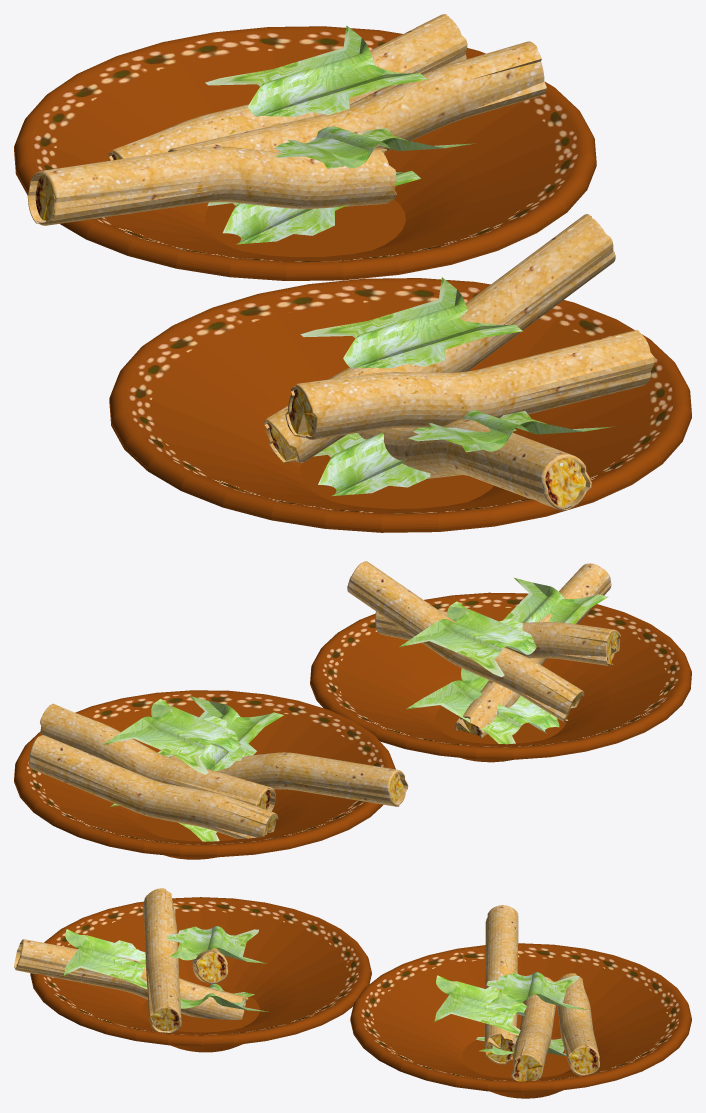
Rendered from Tacos.obj.
3 views of the same model, one above another, from view 1: azimuth 30°, elevation 25°; view 2: azimuth 150°, elevation 25°; view 3: azimuth 270°, elevation 25° (orthographic). The views are drawn at different scales.
Parts seen in each view (by area): view 1: Plato_Circle.005, Plato.001_Circle.011, Taco.001_Circle.007, Taco.005_Circle.012, Taco.004_Circle.010, Taco.002_Circle.008, Taco_Circle.004, Lechuga.005_Plane.005, Taco.003_Circle.009, Lechuga_Plane, Lechuga.001_Plane.001, Lechuga.004_Plane.004 (+2 smaller); view 2: Plato_Circle.005, Plato.001_Circle.011, Taco.003_Circle.009, Taco.002_Circle.008, Taco.004_Circle.010, Taco.005_Circle.012, Lechuga.005_Plane.005, Lechuga_Plane, Taco.001_Circle.007, Lechuga.001_Plane.001, Taco_Circle.004, Lechuga.003_Plane.003 (+1 smaller); view 3: Plato.001_Circle.011, Plato_Circle.005, Taco_Circle.004, Taco.001_Circle.007, Taco.005_Circle.012, Taco.003_Circle.009, Lechuga.002_Plane.002, Lechuga.003_Plane.003, Taco.004_Circle.010, Lechuga.005_Plane.005, Lechuga_Plane, Taco.002_Circle.008 (+2 smaller).
Part boxes in pixels (x1,y1,x2,y2): Plato_Circle.005: (109, 278, 691, 532); Plato.001_Circle.011: (14, 26, 596, 280); Taco.001_Circle.007: (285, 330, 654, 439); Taco.005_Circle.012: (27, 146, 396, 225); Taco.004_Circle.010: (168, 41, 546, 152); Taco.002_Circle.008: (263, 214, 615, 463); Taco_Circle.004: (357, 419, 591, 510); Lechuga.005_Plane.005: (205, 25, 427, 116); Taco.003_Circle.009: (108, 14, 467, 160); Lechuga_Plane: (300, 277, 522, 368); Lechuga.001_Plane.001: (313, 429, 516, 496); Lechuga.004_Plane.004: (207, 171, 420, 244); Plato_Circle.005: (310, 592, 691, 762); Plato.001_Circle.011: (14, 690, 395, 859); Taco.003_Circle.009: (29, 735, 278, 838); Taco.002_Circle.008: (347, 561, 584, 722); Taco.004_Circle.010: (40, 703, 275, 811); Taco.005_Circle.012: (170, 752, 408, 806); Lechuga.005_Plane.005: (103, 699, 240, 774); Lechuga_Plane: (399, 601, 536, 677); Taco.001_Circle.007: (375, 610, 620, 665); Lechuga.001_Plane.001: (406, 668, 559, 759); Taco_Circle.004: (454, 563, 611, 737); Lechuga.003_Plane.003: (158, 696, 283, 771); Plato.001_Circle.011: (350, 943, 691, 1098); Plato_Circle.005: (30, 897, 371, 1052); Taco_Circle.004: (14, 939, 248, 1019); Taco.001_Circle.007: (143, 888, 181, 1033); Taco.005_Circle.012: (484, 905, 518, 1064); Taco.003_Circle.009: (557, 973, 599, 1075); Lechuga.002_Plane.002: (63, 929, 147, 989); Lechuga.003_Plane.003: (434, 975, 526, 1035); Taco.004_Circle.010: (511, 976, 555, 1081); Lechuga.005_Plane.005: (486, 972, 587, 1009); Lechuga_Plane: (166, 926, 266, 963); Taco.002_Circle.008: (192, 948, 228, 983).
Size of the model in its own units: 14.05 by 4.59 by 20.61.
